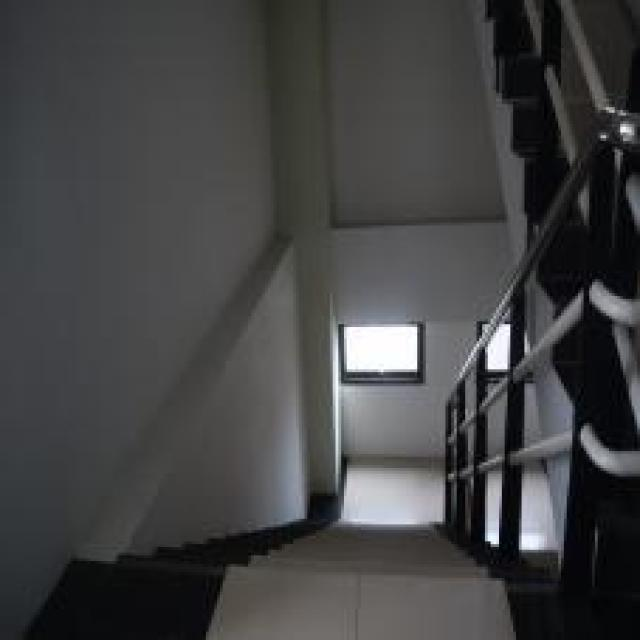downstair: (216, 545, 481, 638)
